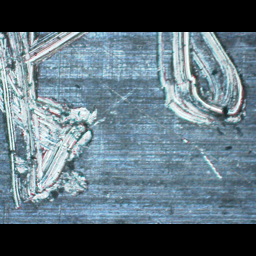d: (0, 31, 105, 214), (145, 32, 251, 132)
